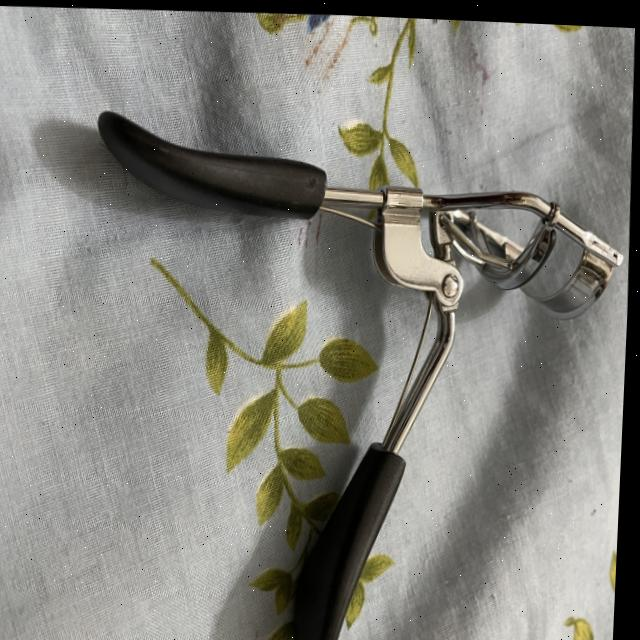eyelash curler: (58, 83, 637, 640)
